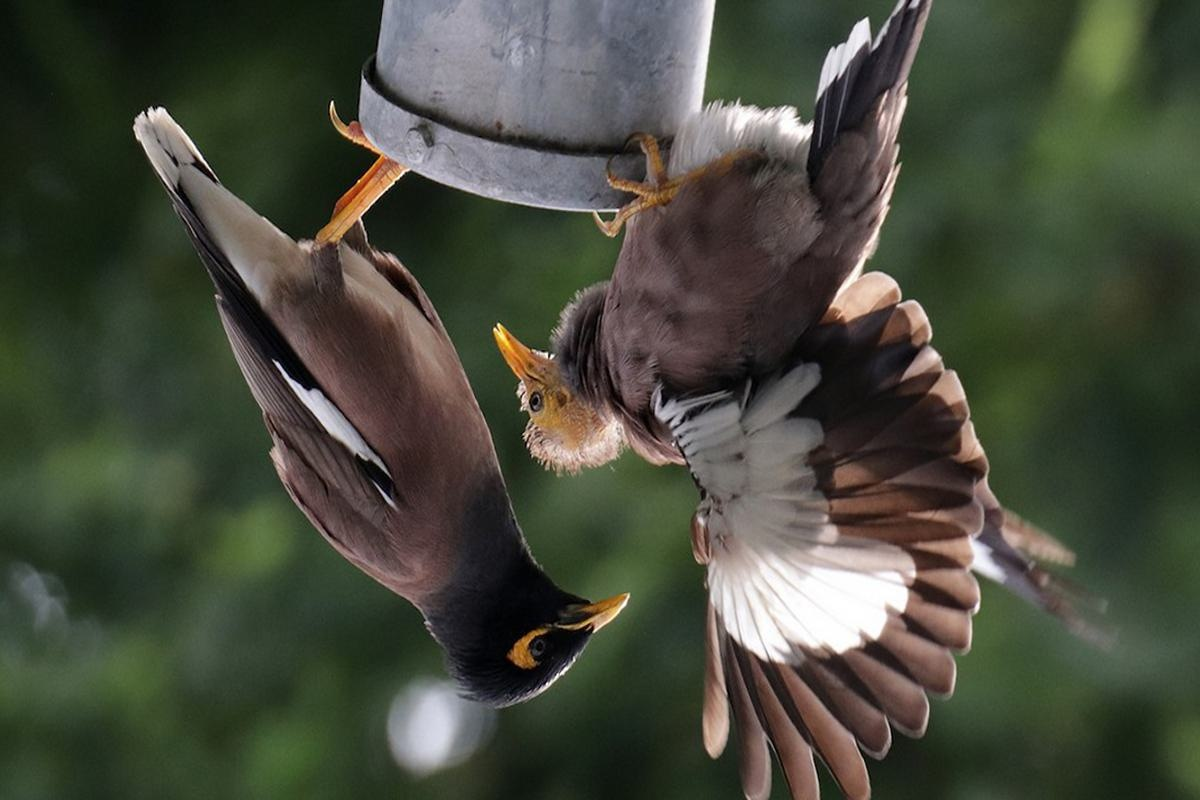myna: (145, 106, 633, 717), (488, 29, 1005, 587)
